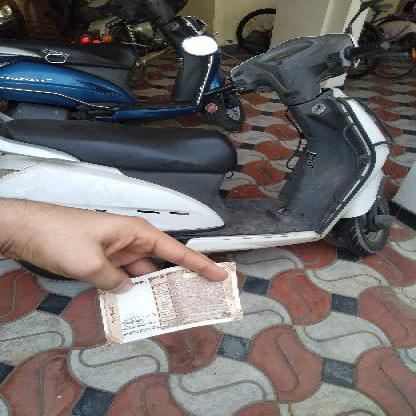New10Back: (100, 263, 244, 341)
